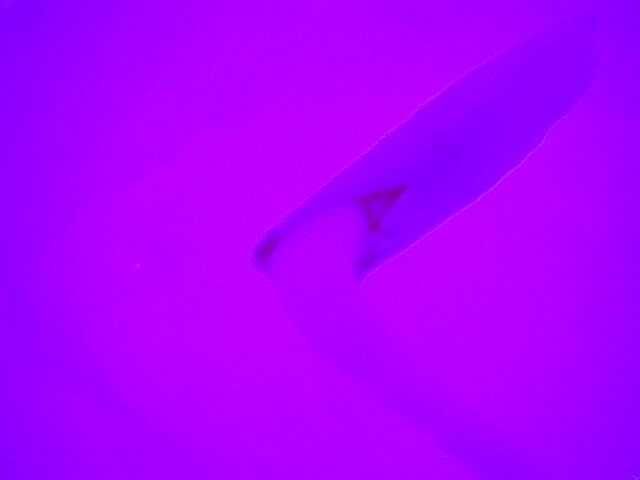sprout: (238, 18, 605, 462)
